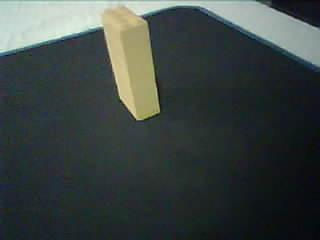lego: (100, 4, 160, 121)
